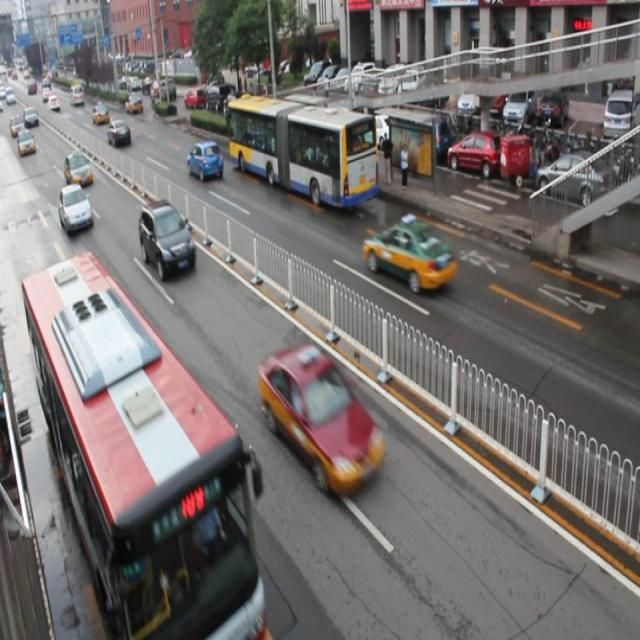car: (259, 342, 383, 492), (363, 216, 455, 294), (140, 201, 196, 277), (59, 182, 93, 232), (187, 142, 223, 180), (64, 150, 92, 185), (109, 120, 131, 147)
van: (22, 253, 266, 640), (225, 92, 378, 211)
